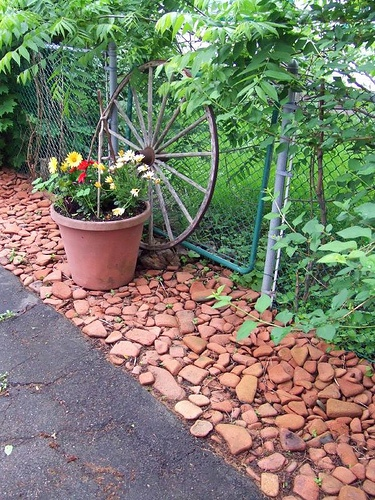flowerpot: (49, 193, 148, 292)
